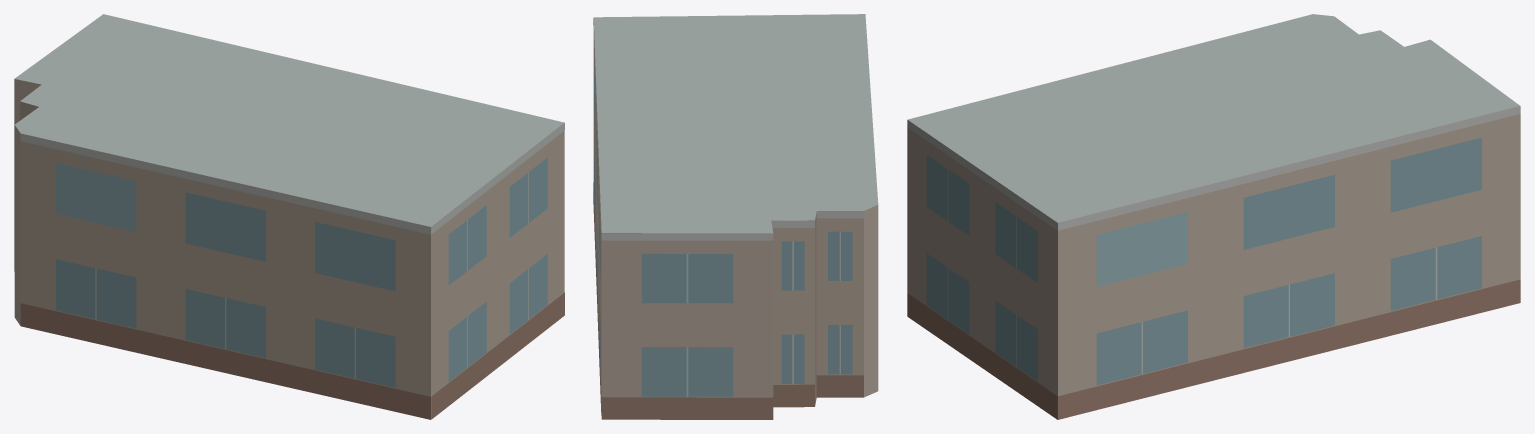
File: survey-upis-32839540.glb
3 views of the same model, side by side, from view 1: azimuth 30°, elevation 25°; view 2: azimuth 150°, elevation 25°; view 3: azimuth 270°, elevation 25° (orthographic). The views are drawn at different scales.
Parts seen in each view (by area): view 1: survey-upis-32839540.tmp; view 2: survey-upis-32839540.tmp; view 3: survey-upis-32839540.tmp.
Boxes of the visible parts, x1=… form: survey-upis-32839540.tmp: x1=14, y1=14, x2=564, y2=419; survey-upis-32839540.tmp: x1=593, y1=14, x2=878, y2=419; survey-upis-32839540.tmp: x1=907, y1=14, x2=1520, y2=419.
Bounding box in the file's own units: 13.89 × 6.1 × 17.22.
